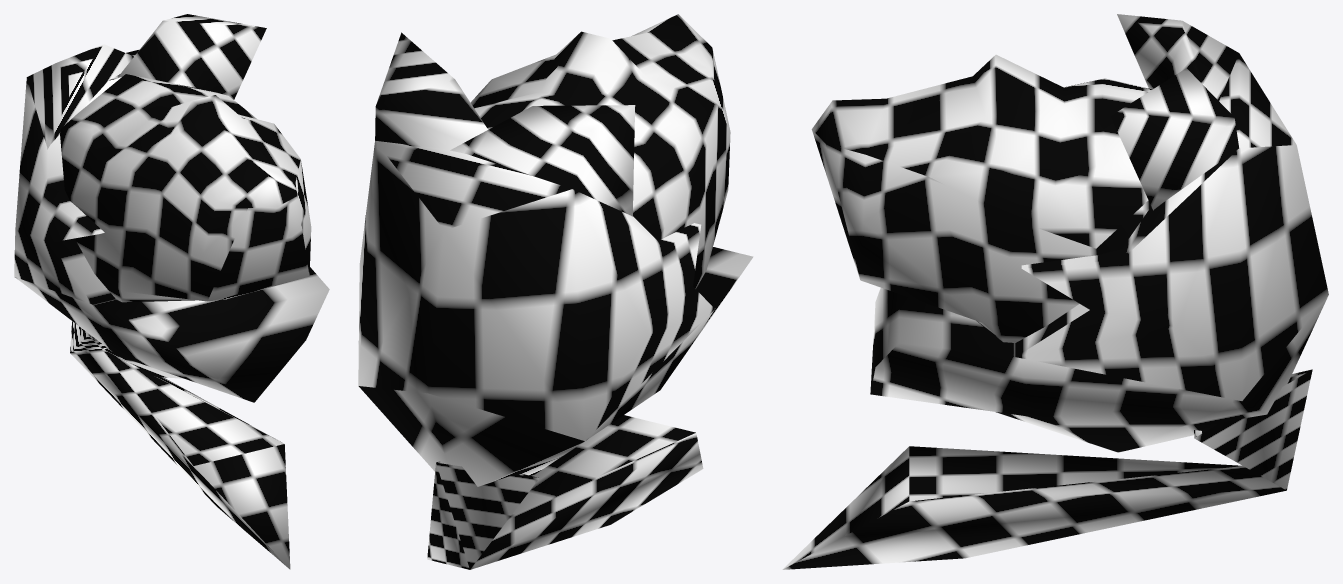
Rendered from infaunhufe13.dae.
The picture shows the model from 3 angles, left to right: view 1: azimuth 30°, elevation 25°; view 2: azimuth 150°, elevation 25°; view 3: azimuth 270°, elevation 25°; orthographic projection. The views are drawn at different scales.
Parts seen in each view (by area): view 1: face; view 2: face; view 3: face.
Boxes of the visible parts, <box> form: face: <box>14,14,329,569</box>; face: <box>358,14,753,569</box>; face: <box>782,14,1328,569</box>.
Bounding box in the file's own units: 0.9928 × 1.64 × 1.73.
Materials: 1 (1 with a texture image).
